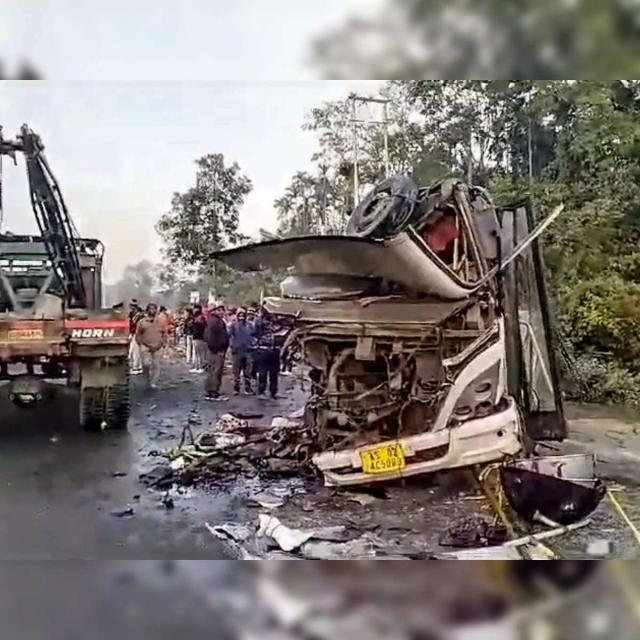accident: (213, 177, 567, 484)
truck: (0, 126, 132, 431)
